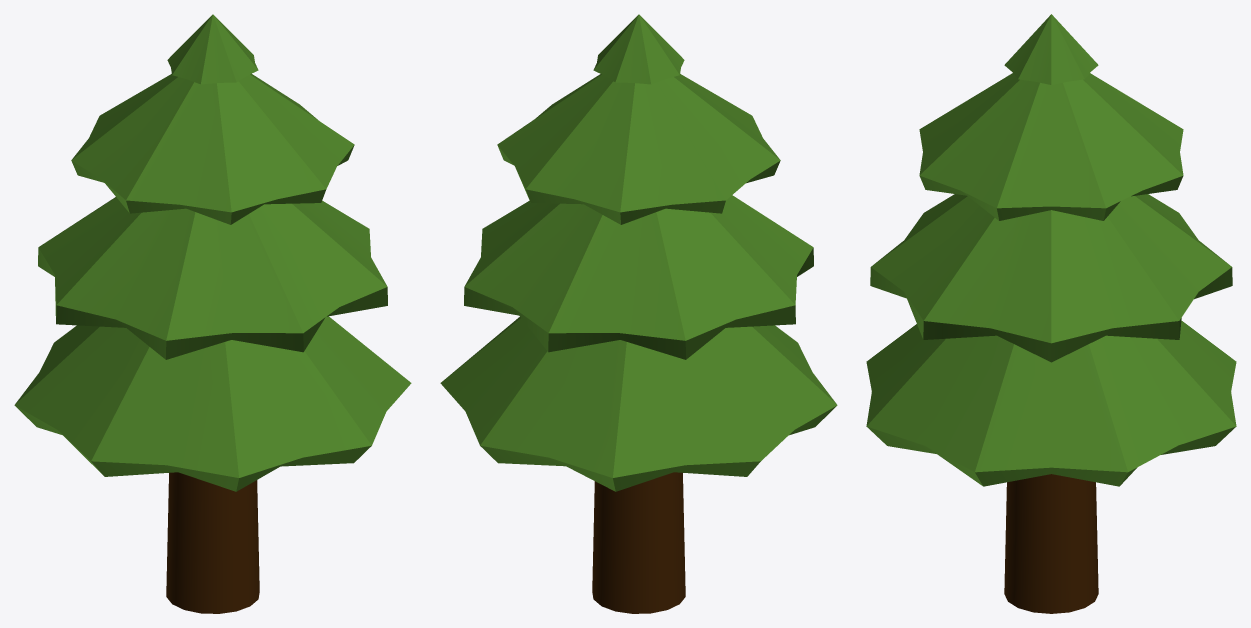
The model's file is Tree.fbx.
3 views of the same model, side by side, from view 1: azimuth 30°, elevation 25°; view 2: azimuth 150°, elevation 25°; view 3: azimuth 270°, elevation 25° (orthographic).
Visible parts, largest first — view 1: Tree; view 2: Tree; view 3: Tree.
Boxes of the visible parts, bbox=[...] form: Tree: bbox=[14, 14, 411, 613]; Tree: bbox=[440, 14, 837, 613]; Tree: bbox=[866, 14, 1236, 613].
Size of the model in its own units: 2.96 by 2.96 by 5.12.
